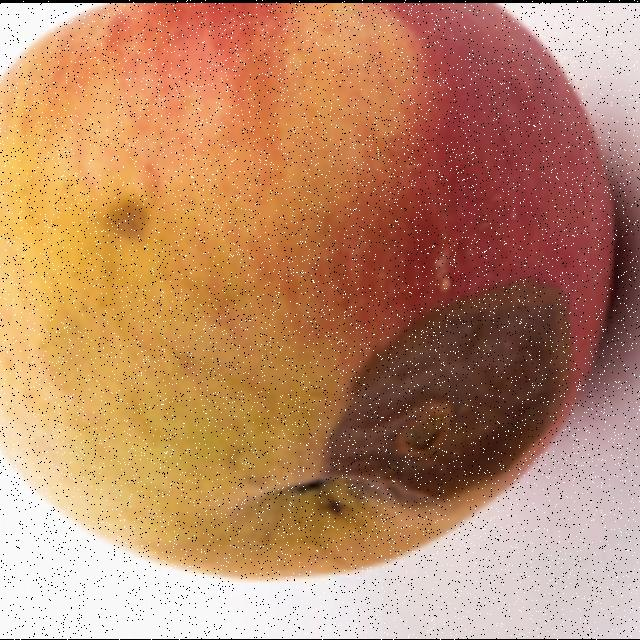Apel Tidak Segar: (0, 2, 616, 578)
